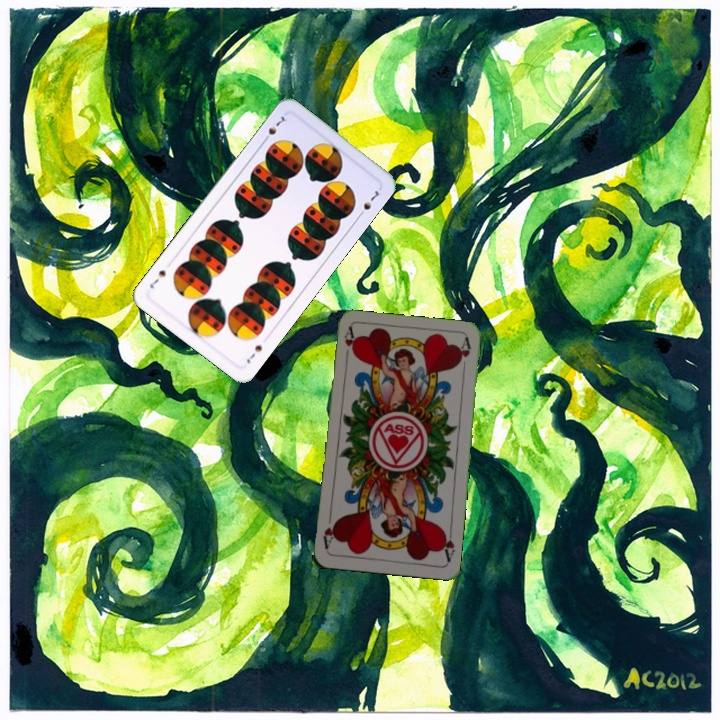HA: (438, 523, 457, 564), (340, 324, 357, 365)
S7: (259, 112, 290, 145), (242, 341, 265, 366)
